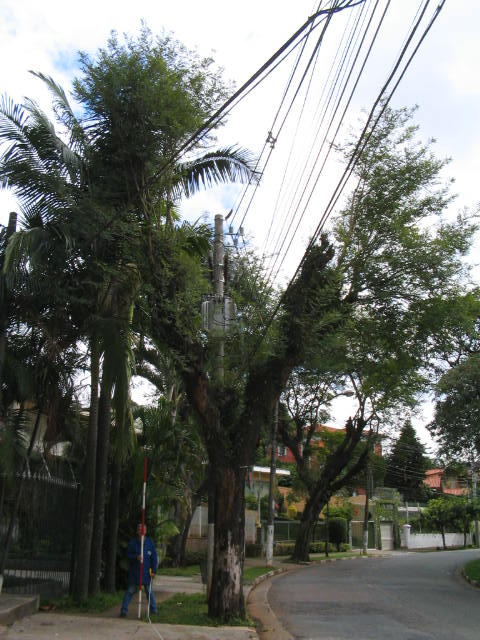stem: (201, 443, 266, 622)
stick: (130, 457, 156, 621)
tree: (128, 227, 347, 624), (273, 399, 381, 564)
